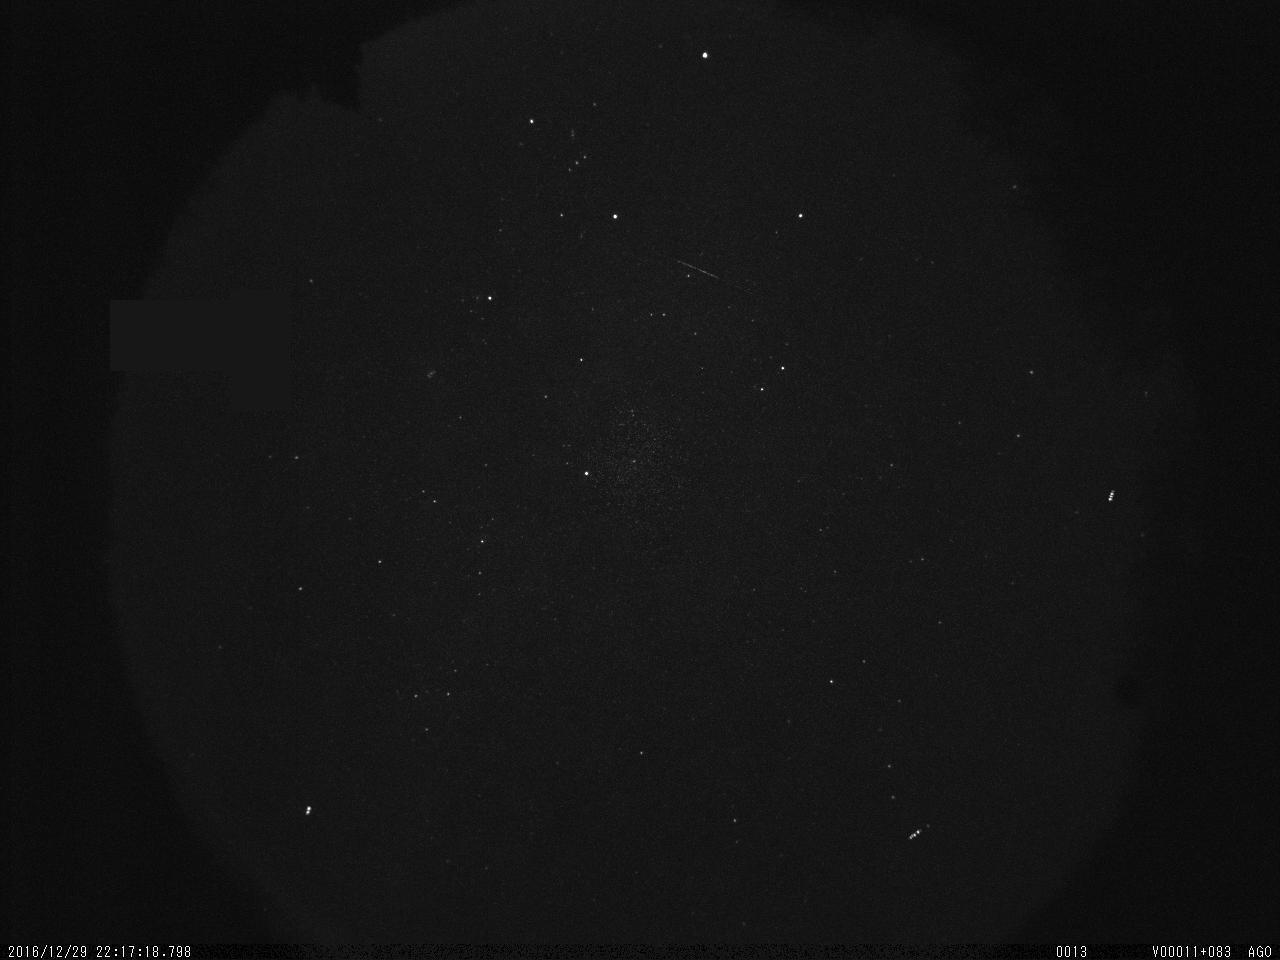Meteor: (659, 248, 737, 290)
